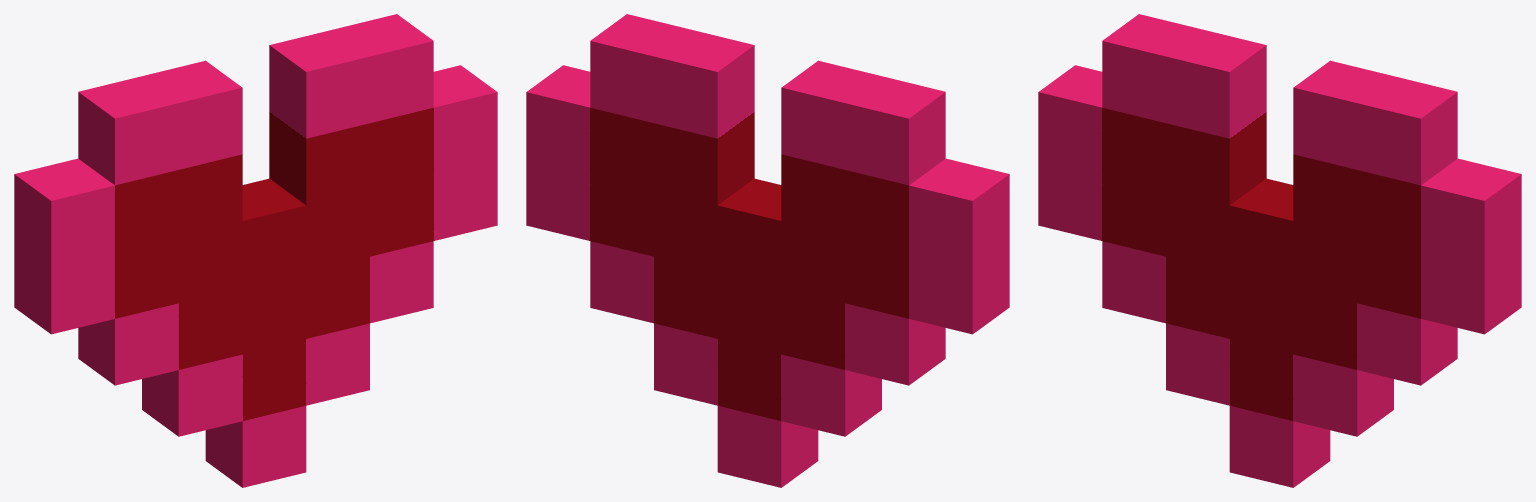
The model's file is heart.obj.
The picture shows the model from 3 angles, left to right: view 1: azimuth 30°, elevation 25°; view 2: azimuth 150°, elevation 25°; view 3: azimuth 330°, elevation 25°; orthographic projection.
Visible parts, largest first — view 1: Matrix; view 2: Matrix; view 3: Matrix.
Part boxes in pixels (<box>): Matrix: <box>14,14,497,487</box>; Matrix: <box>526,14,1009,487</box>; Matrix: <box>1038,14,1521,487</box>.
Size of the model in its own units: 7 by 6 by 1.
Materials: 1 (1 with a texture image).
